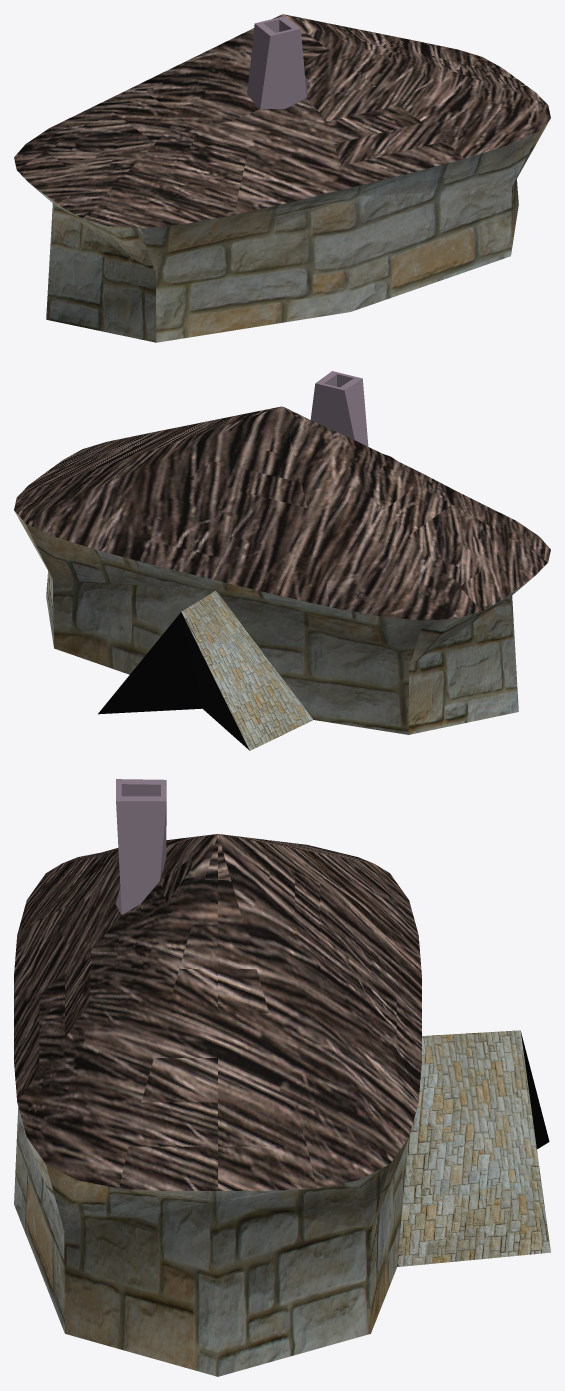
The model's file is house1.dae.
3 renders of one model, top to bottom at view 1: azimuth 30°, elevation 25°; view 2: azimuth 150°, elevation 25°; view 3: azimuth 270°, elevation 25°, orthographic. The views are drawn at different scales.
Parts seen in each view (by area): view 1: Box; view 2: Box; view 3: Box.
Part boxes in pixels (x1,y1,x2,y2): Box: [14, 14, 550, 342]; Box: [14, 371, 550, 750]; Box: [14, 779, 550, 1376].
Bounding box in the file's own units: 2 × 1.06 × 1.32.
